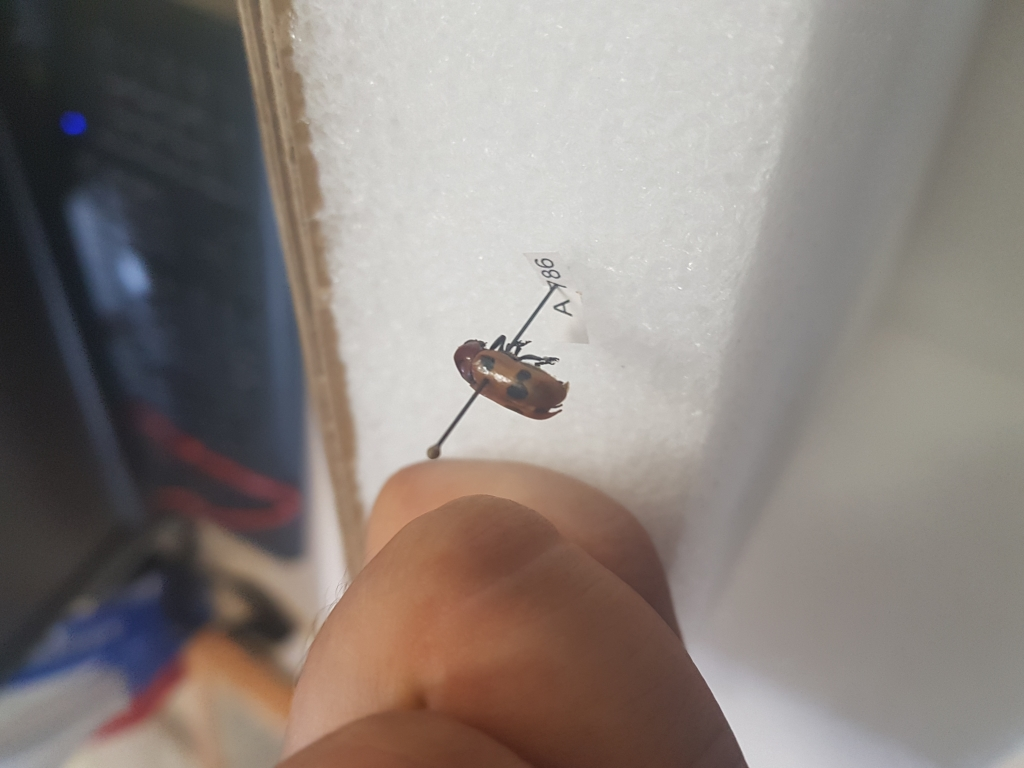Clytra_novempunctata: (450, 336, 570, 425)
